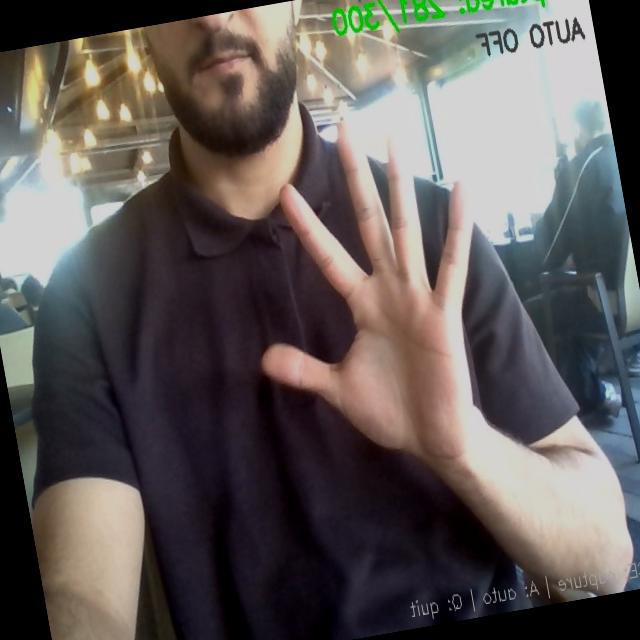Hand: (262, 124, 473, 460)
